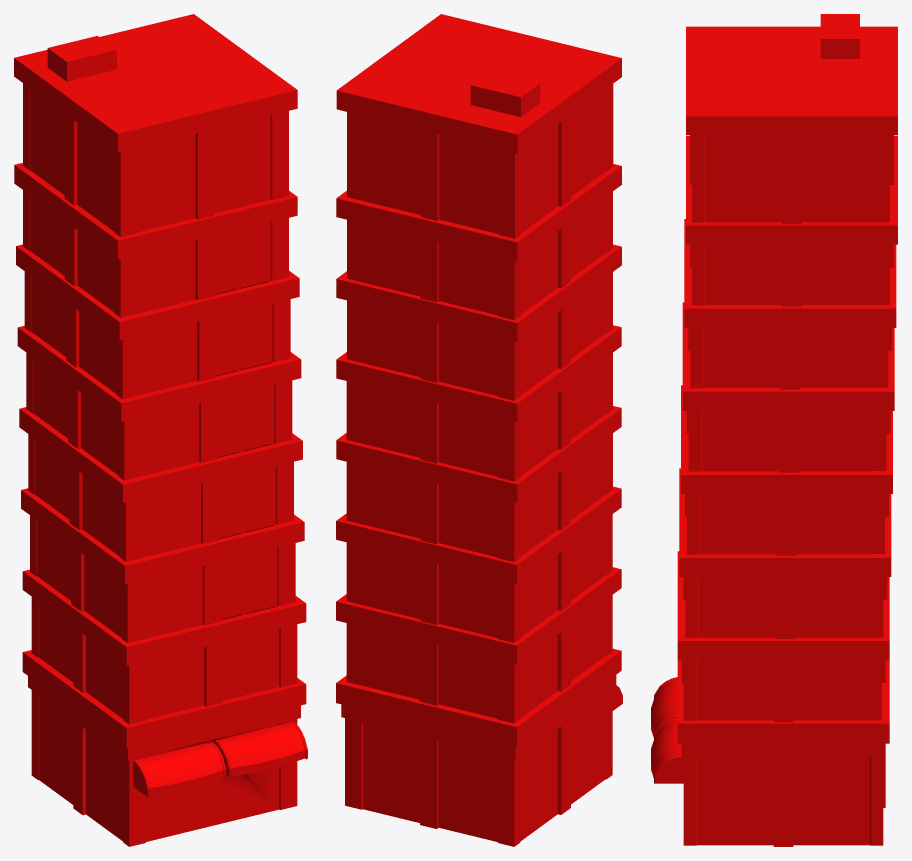
File: largeBuilding_M_v1_athena.fbx
3 renders of one model, left to right at view 1: azimuth 30°, elevation 25°; view 2: azimuth 150°, elevation 25°; view 3: azimuth 270°, elevation 25°, orthographic. The views are drawn at different scales.
Visible parts, largest first — view 1: largeBuilding_M_v1_athena_Low; view 2: largeBuilding_M_v1_athena_Low; view 3: largeBuilding_M_v1_athena_Low.
Boxes of the visible parts, x1=… form: largeBuilding_M_v1_athena_Low: x1=14, y1=14, x2=307, y2=846; largeBuilding_M_v1_athena_Low: x1=336, y1=14, x2=622, y2=846; largeBuilding_M_v1_athena_Low: x1=651, y1=14, x2=897, y2=846.
Bounding box in the file's own units: 1108 × 4218 × 1258.
